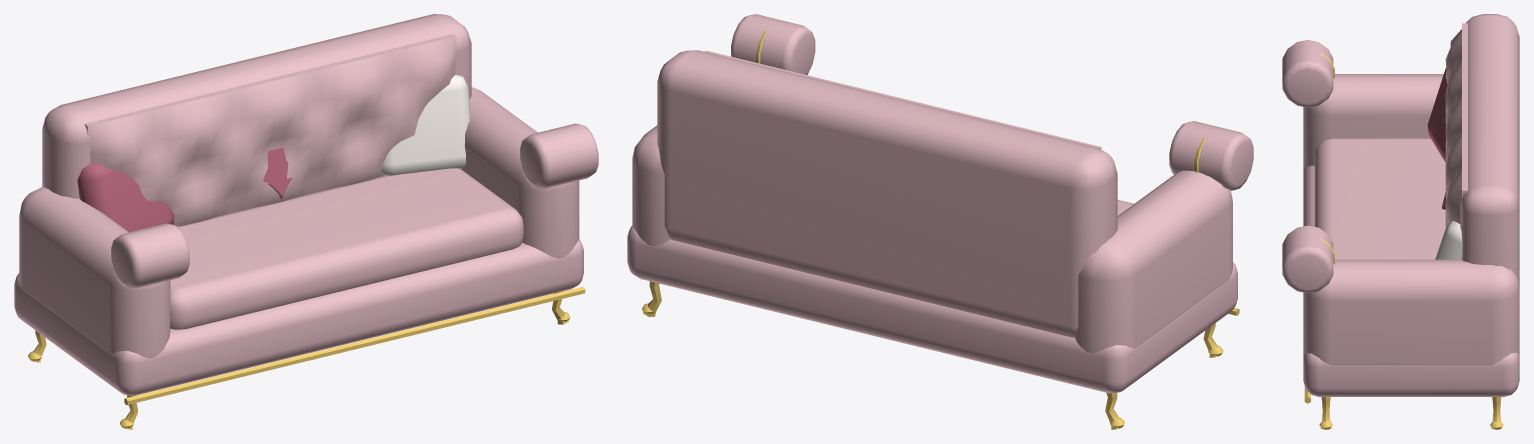
The model's file is sofa_capitone.glb.
3 views of the same model, side by side, from view 1: azimuth 30°, elevation 25°; view 2: azimuth 150°, elevation 25°; view 3: azimuth 270°, elevation 25° (orthographic). The views are drawn at different scales.
Parts seen in each view (by area): view 1: sofa_capitone; view 2: sofa_capitone; view 3: sofa_capitone.
Boxes of the visible parts, x1,y1,x2,y2 form: sofa_capitone: (14, 14, 598, 429); sofa_capitone: (627, 14, 1253, 429); sofa_capitone: (1282, 14, 1519, 429).
Bounding box in the file's own units: 2.2 × 1.12 × 1.04.
